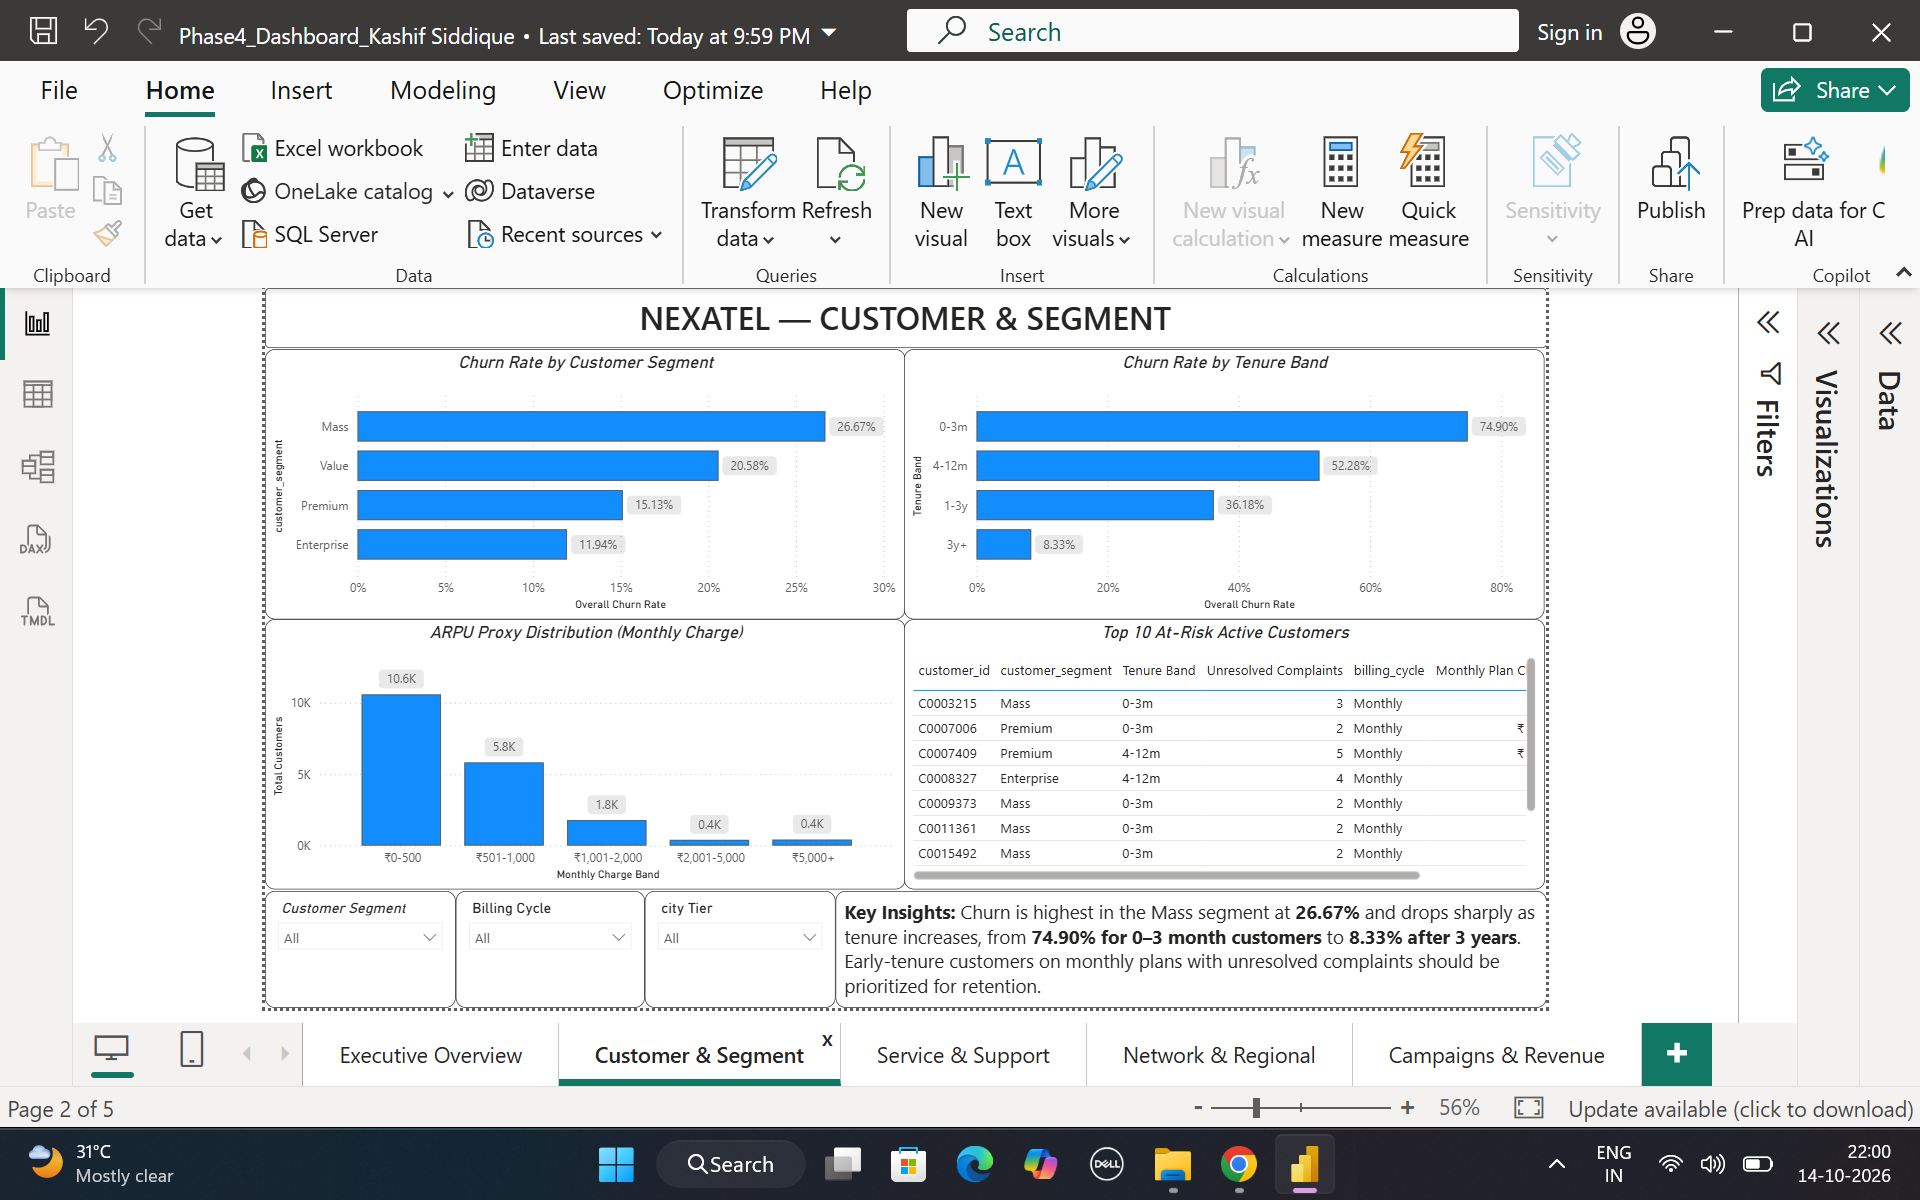

The dashboard page shown, as its layout file describes it:
{"tool":"powerbi","page":{"name":"Customer & Segment","canvas":[1280,720],"ordinal":1},"visuals":[{"type":"textbox","box":[0,0,1280.8,60],"z":0},{"type":"clusteredBarChart","title":"Churn Rate by Customer Segment","fields":{"Category":["customers_clean.customer_segment"],"Y":["KPI_Measures.Overall Churn Rate"]},"box":[0,60.7,640,270],"z":1000},{"type":"clusteredBarChart","title":"Churn Rate by Tenure Band","fields":{"Category":["customers_clean.Tenure Band"],"Y":["KPI_Measures.Overall Churn Rate"]},"box":[639,60.7,640,270],"z":2000},{"type":"clusteredColumnChart","title":"ARPU Proxy Distribution (Monthly Charge)","fields":{"Category":["customers_clean.Monthly Charge Band"],"Y":["KPI_Measures.Total Customers"]},"box":[0,331.6,640,270],"z":3000},{"type":"tableEx","title":"Top 10 At-Risk Active Customers","fields":{"Values":["customers_clean.customer_id","customers_clean.customer_segment","customers_clean.Tenure Band","customers_clean.Unresolved Complaints","plans_clean.billing_cycle","customers_clean.Monthly Plan Charge","customers_clean.At Risk Score"]},"box":[638.6,331,640.4,270],"z":4000},{"type":"slicer","fields":{"Values":["customers_clean.customer_segment"]},"box":[0,602.6,190.7,116.9],"z":5000},{"type":"slicer","fields":{"Values":["plans_clean.billing_cycle"]},"box":[190.7,602.6,188.9,116.9],"z":6000},{"type":"slicer","fields":{"Values":["customers_clean.city_tier"]},"box":[379.6,602.6,190.7,116.9],"z":7000},{"type":"textbox","box":[570.3,602.6,710.6,116.9],"z":8000}]}

Visuals, with their boxes on the page's 1280x720 design canvas (x1, y1, x2, y2). These are canvas units, not pixel positions in the 1920x1200 screenshot, which may show the page scaled, cropped or inside an application window:
textbox: left=0, top=0, right=1281, bottom=60
"Churn Rate by Customer Segment" clusteredBarChart: left=0, top=61, right=640, bottom=331
"Churn Rate by Tenure Band" clusteredBarChart: left=639, top=61, right=1279, bottom=331
"ARPU Proxy Distribution (Monthly Charge)" clusteredColumnChart: left=0, top=332, right=640, bottom=602
"Top 10 At-Risk Active Customers" tableEx: left=639, top=331, right=1279, bottom=601
slicer - customers_clean.customer_segment: left=0, top=603, right=191, bottom=720
slicer - plans_clean.billing_cycle: left=191, top=603, right=380, bottom=720
slicer - customers_clean.city_tier: left=380, top=603, right=570, bottom=720
textbox: left=570, top=603, right=1281, bottom=720
